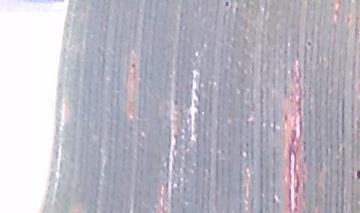tarspot: (220, 1, 233, 11), (354, 168, 360, 183), (128, 61, 139, 69), (172, 99, 180, 107), (304, 40, 312, 48)
